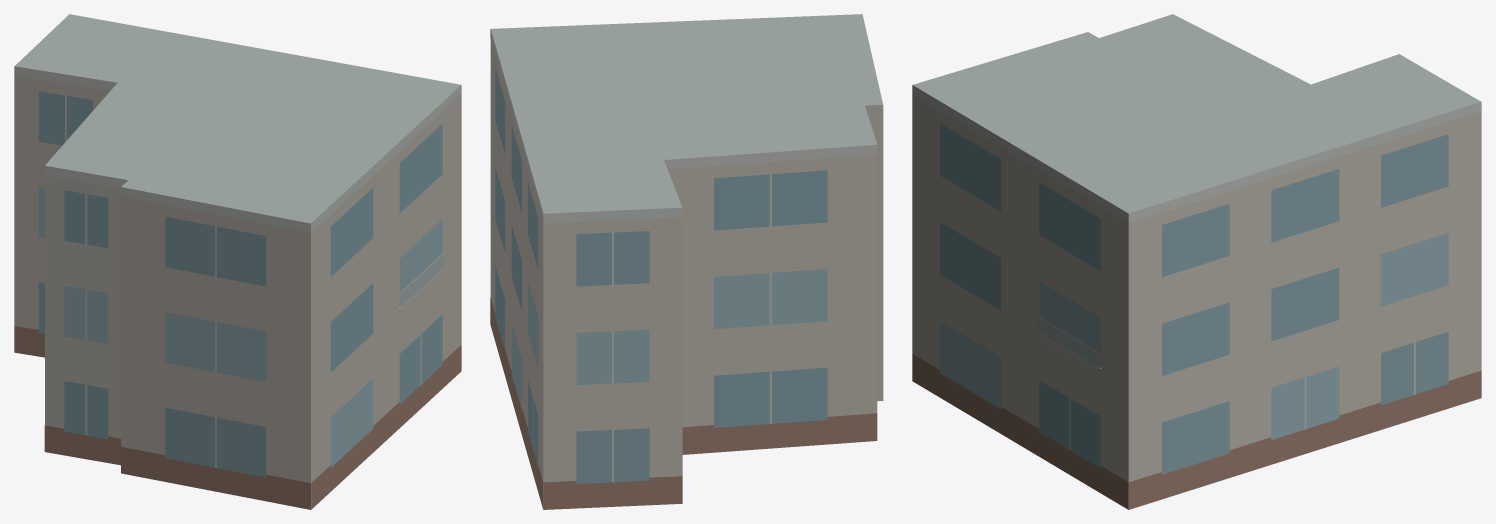
The model's file is survey-upis-32461648.glb.
The picture shows the model from 3 angles, left to right: view 1: azimuth 30°, elevation 25°; view 2: azimuth 150°, elevation 25°; view 3: azimuth 270°, elevation 25°; orthographic projection. The views are drawn at different scales.
Parts seen in each view (by area): view 1: survey-upis-32461648.tmp; view 2: survey-upis-32461648.tmp; view 3: survey-upis-32461648.tmp.
Part boxes in pixels (x1,y1,x2,y2): survey-upis-32461648.tmp: (14,14,461,509); survey-upis-32461648.tmp: (490,14,883,509); survey-upis-32461648.tmp: (912,14,1481,509).
Size of the model in its own units: 10.85 by 7.5 by 13.07.
